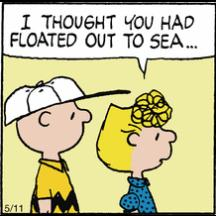charlie: (3, 74, 93, 213)
